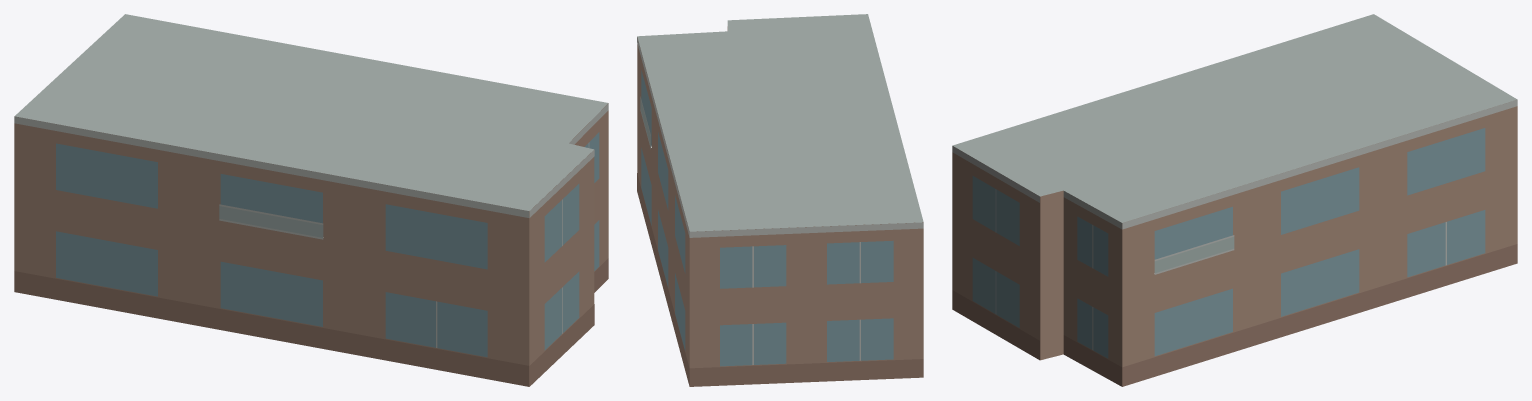
File: survey-upis-33005801.glb
3 renders of one model, left to right at view 1: azimuth 30°, elevation 25°; view 2: azimuth 150°, elevation 25°; view 3: azimuth 270°, elevation 25°, orthographic. The views are drawn at different scales.
Visible parts, largest first — view 1: survey-upis-33005801.tmp; view 2: survey-upis-33005801.tmp; view 3: survey-upis-33005801.tmp.
Boxes of the visible parts, x1,y1,x2,y2 form: survey-upis-33005801.tmp: (14,14,608,386); survey-upis-33005801.tmp: (637,14,923,386); survey-upis-33005801.tmp: (952,14,1517,386).
Bounding box in the file's own units: 16.7 × 6.1 × 19.08.
